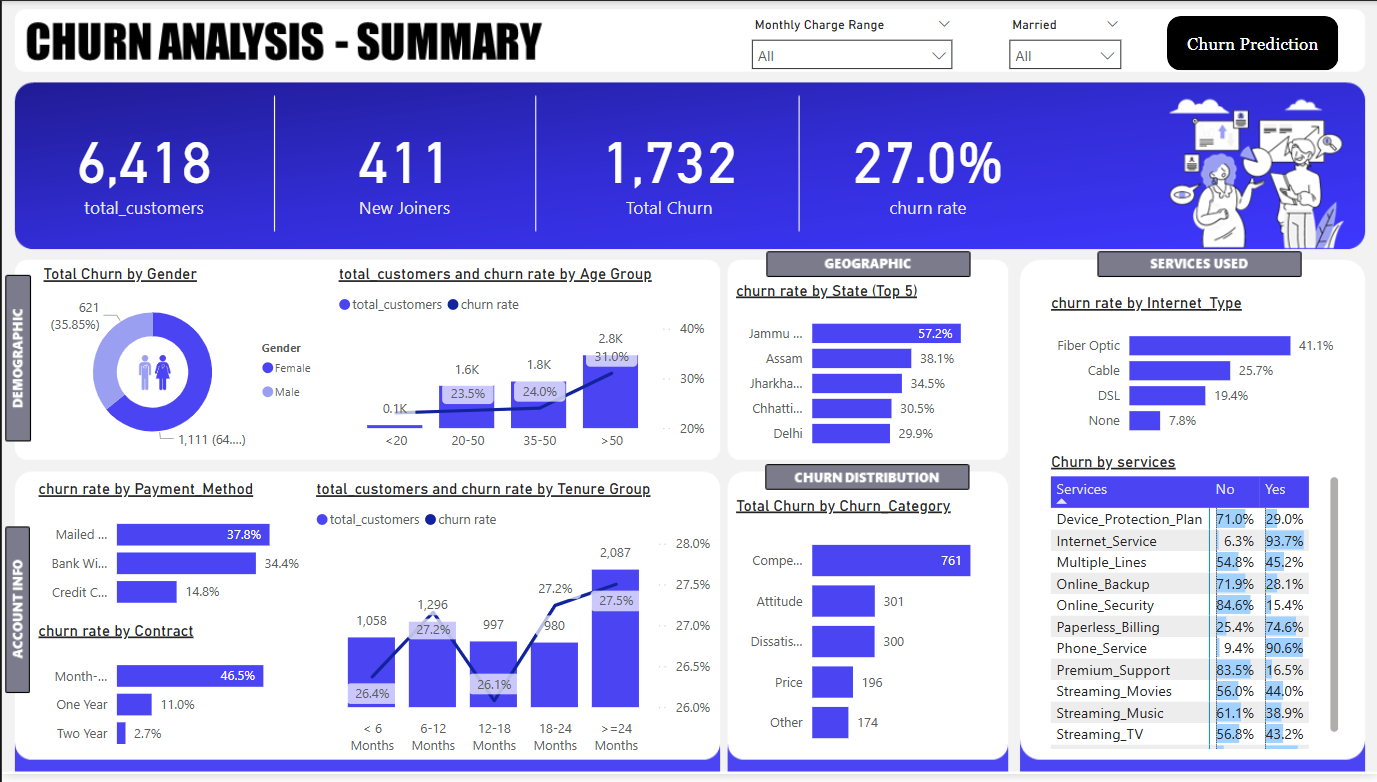

The dashboard page shown, as its layout file describes it:
{"tool":"powerbi","page":{"name":"Summary","canvas":[1280,720],"ordinal":0},"visuals":[{"type":"image","box":[116.5,317.3,52.1,54.5],"z":0},{"type":"card","fields":{"Values":["tbl_measures.total_customers"]},"box":[14.9,89.2,234.2,128.9],"z":1000},{"type":"card","fields":{"Values":["tbl_measures.New Joiners"]},"box":[259,89.2,230.5,128.9],"z":2000},{"type":"card","fields":{"Values":["tbl_measures.Total Churn"]},"box":[499.5,89.2,241.7,128.9],"z":3000},{"type":"card","fields":{"Values":["tbl_measures.churn rate"]},"box":[741.1,89.2,241.7,128.9],"z":4000},{"type":"donutChart","fields":{"Category":["prod_Churn.Gender"],"Y":["tbl_measures.Total Churn"]},"box":[33.5,245.4,268.9,182.2],"z":5000},{"type":"lineStackedColumnComboChart","fields":{"Category":["mapping_AgeGrp.Ag Group"],"Y":["tbl_measures.total_customers"],"Y2":["tbl_measures.churn rate"]},"box":[308.6,245.4,350.7,182.2],"z":6000},{"type":"clusteredBarChart","fields":{"Category":["prod_Churn.Payment_Method"],"Y":["tbl_measures.churn rate"]},"box":[28.5,444.9,259,131.4],"z":7000},{"type":"clusteredBarChart","fields":{"Category":["prod_Churn.Contract"],"Y":["tbl_measures.churn rate"]},"box":[28.5,576.3,259,131.4],"z":8000},{"type":"lineStackedColumnComboChart","fields":{"Category":["mapping_TenureGrp.Tenure Group"],"Y2":["tbl_measures.churn rate"],"Y":["tbl_measures.total_customers"]},"box":[287.5,444.9,376.8,262.7],"z":9000},{"type":"barChart","title":"churn rate by State (Top 5)","fields":{"Category":["prod_Churn.State"],"Y":["tbl_measures.churn rate"]},"box":[677.9,260.3,252.8,166.1],"z":10000},{"type":"clusteredBarChart","fields":{"Category":["prod_Churn.Churn_Category"],"Y":["tbl_measures.Total Churn"]},"box":[677.9,461,252.8,246.6],"z":11000},{"type":"clusteredBarChart","fields":{"Category":["prod_Churn.Internet_Type"],"Y":["tbl_measures.churn rate"]},"box":[970.4,272.7,277.6,142.5],"z":12000},{"type":"pivotTable","title":"Churn by services","fields":{"Rows":["Prod_services.Services"],"Columns":["Prod_services.Status"],"Values":["Sum(Prod_services.Churn Status)"]},"box":[970.4,420.1,277.6,281.3],"z":13000},{"type":"slicer","fields":{"Values":["prod_Churn.Monthly Charge Status"]},"box":[687.1,10,207.1,54.3],"z":14000},{"type":"slicer","fields":{"Values":["prod_Churn.Married"]},"box":[927.1,10,124.3,54.3],"z":15000},{"type":"shape","box":[1083.9,13.5,159.6,50.8],"z":16000}]}

Visuals, with their boxes in screenshot pixels (x1, y1, x2, y2), scaled from the page's 1280x720 canvas onto the 1377x782 screenshot:
image: crop(125, 345, 181, 404)
card - tbl_measures.total_customers: crop(16, 97, 268, 237)
card - tbl_measures.New Joiners: crop(279, 97, 527, 237)
card - tbl_measures.Total Churn: crop(537, 97, 797, 237)
card - tbl_measures.churn rate: crop(797, 97, 1057, 237)
donutChart - prod_Churn.Gender x tbl_measures.Total Churn: crop(36, 267, 325, 464)
lineStackedColumnComboChart - mapping_AgeGrp.Ag Group x tbl_measures.total_customers: crop(332, 267, 709, 464)
clusteredBarChart - prod_Churn.Payment_Method x tbl_measures.churn rate: crop(31, 483, 309, 626)
clusteredBarChart - prod_Churn.Contract x tbl_measures.churn rate: crop(31, 626, 309, 769)
lineStackedColumnComboChart - mapping_TenureGrp.Tenure Group x tbl_measures.churn rate: crop(309, 483, 715, 769)
"churn rate by State (Top 5)" barChart: crop(729, 283, 1001, 463)
clusteredBarChart - prod_Churn.Churn_Category x tbl_measures.Total Churn: crop(729, 501, 1001, 769)
clusteredBarChart - prod_Churn.Internet_Type x tbl_measures.churn rate: crop(1044, 296, 1343, 451)
"Churn by services" pivotTable: crop(1044, 456, 1343, 762)
slicer - prod_Churn.Monthly Charge Status: crop(739, 11, 962, 70)
slicer - prod_Churn.Married: crop(997, 11, 1131, 70)
shape: crop(1166, 15, 1338, 70)
